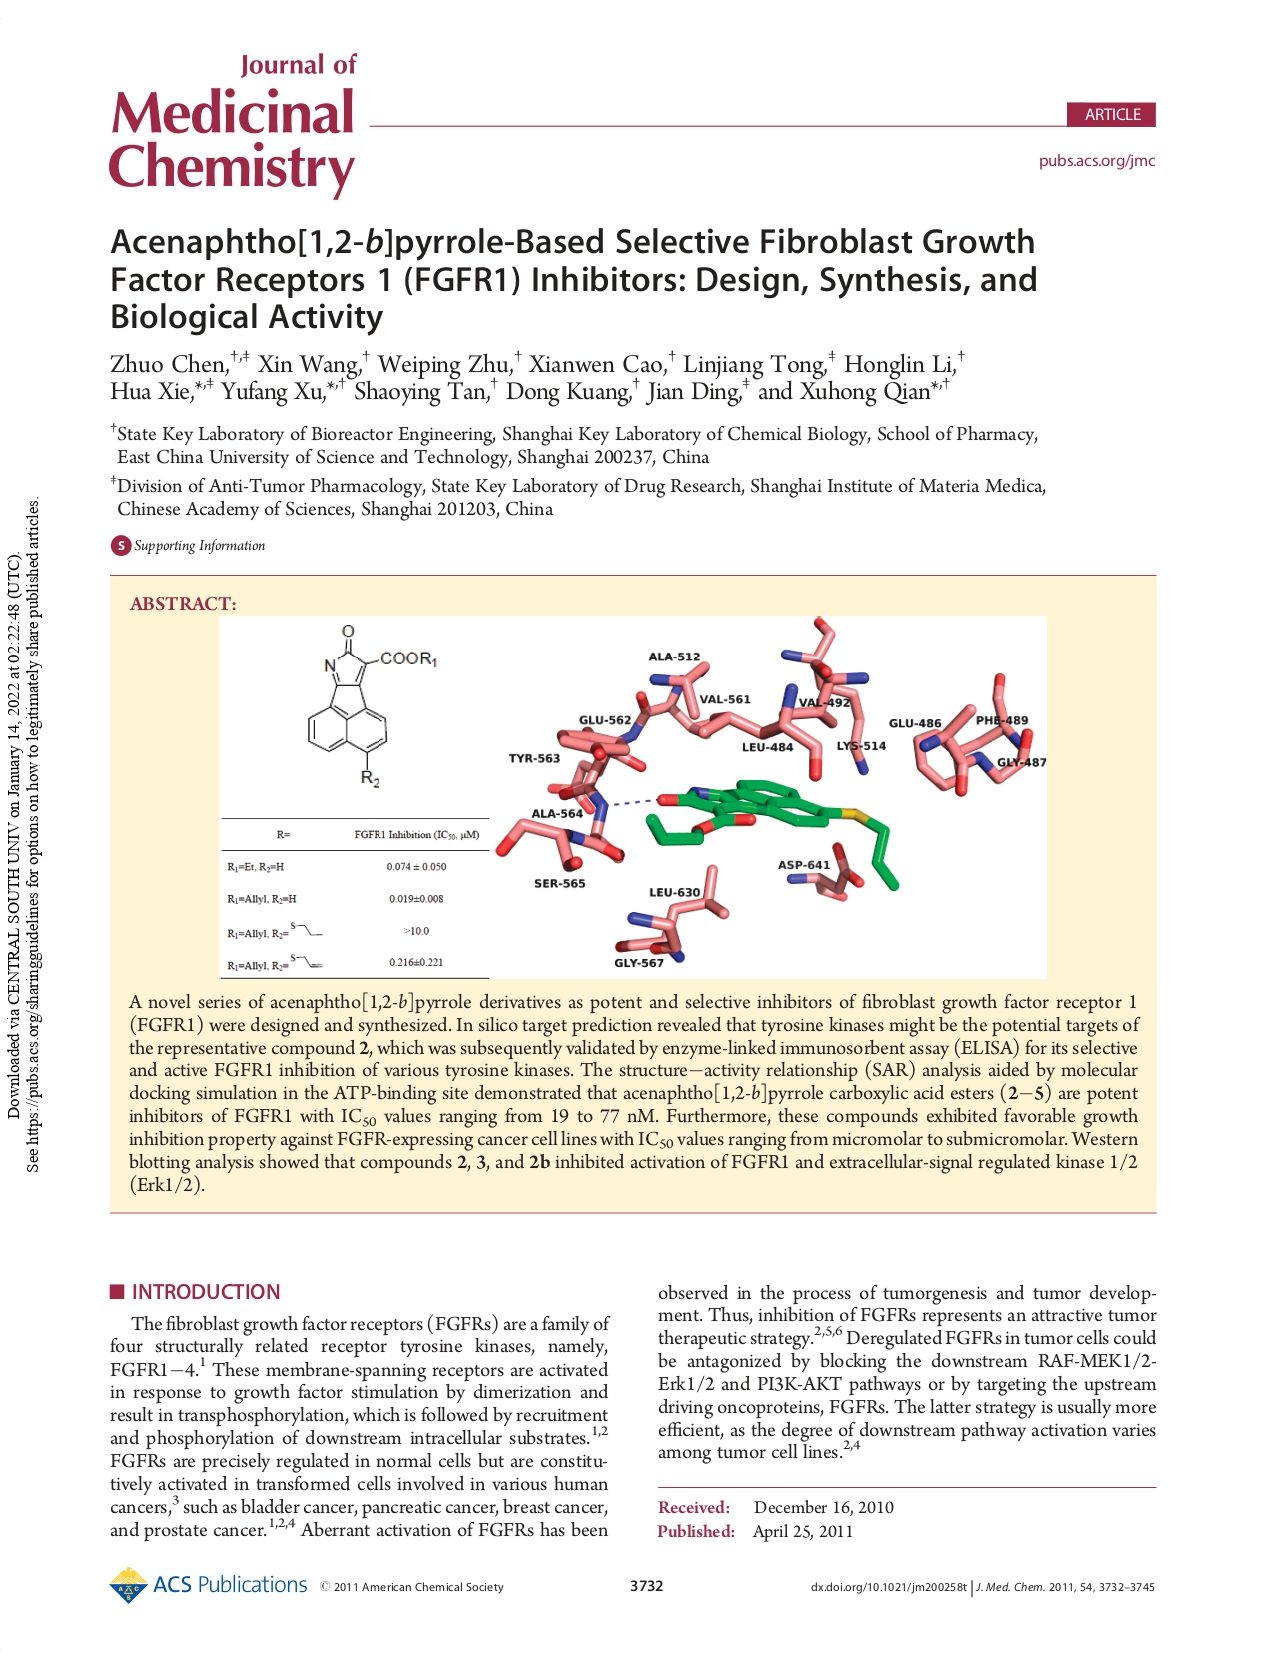exist_molecular: (303, 622, 442, 793), (289, 918, 324, 940), (289, 951, 323, 972)
